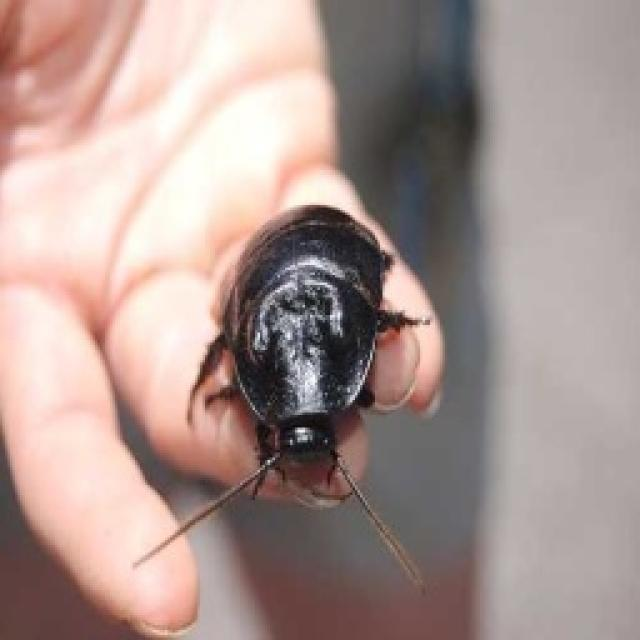cockroach: (128, 200, 438, 596)
